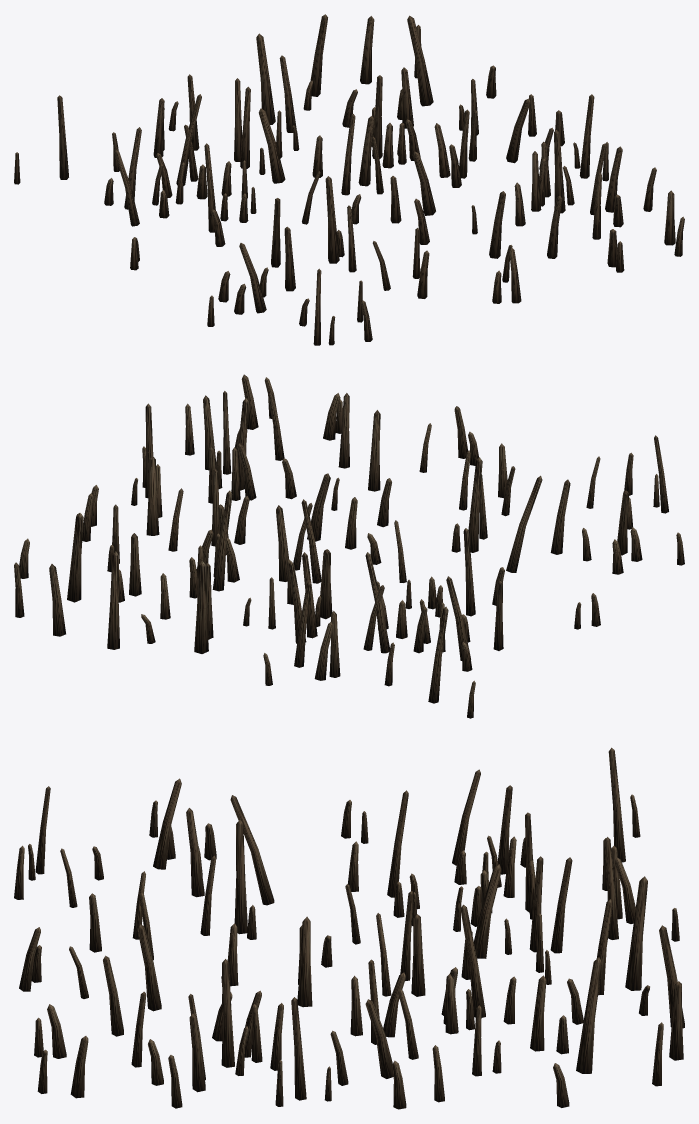
The model's file is pneumatophores_dense.glb.
The picture shows the model from 3 angles, top to bottom: view 1: azimuth 30°, elevation 25°; view 2: azimuth 150°, elevation 25°; view 3: azimuth 270°, elevation 25°; orthographic projection. The views are drawn at different scales.
Visible parts, largest first — view 1: wood; view 2: wood; view 3: wood.
Boxes of the visible parts, x1=… form: wood: x1=14, y1=14, x2=684, y2=345; wood: x1=14, y1=374, x2=684, y2=718; wood: x1=14, y1=747, x2=684, y2=1109.
Bounding box in the file's own units: 1.91 × 0.3567 × 1.96.
1 material, 1 textured.
